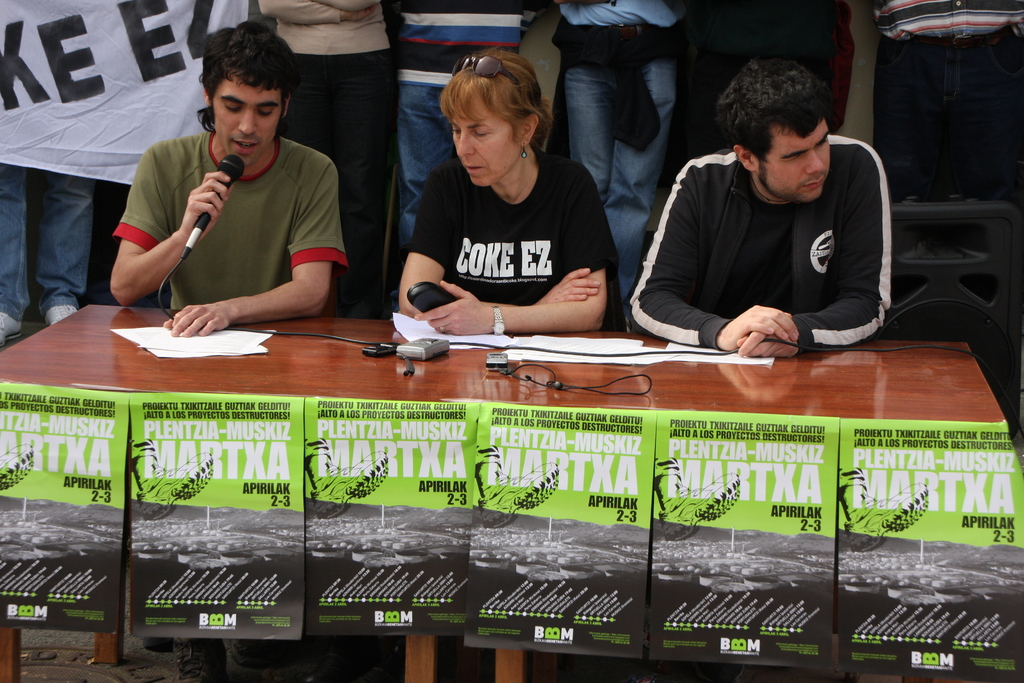Human-face: (212, 76, 280, 165), (758, 123, 829, 201), (455, 104, 519, 185)
